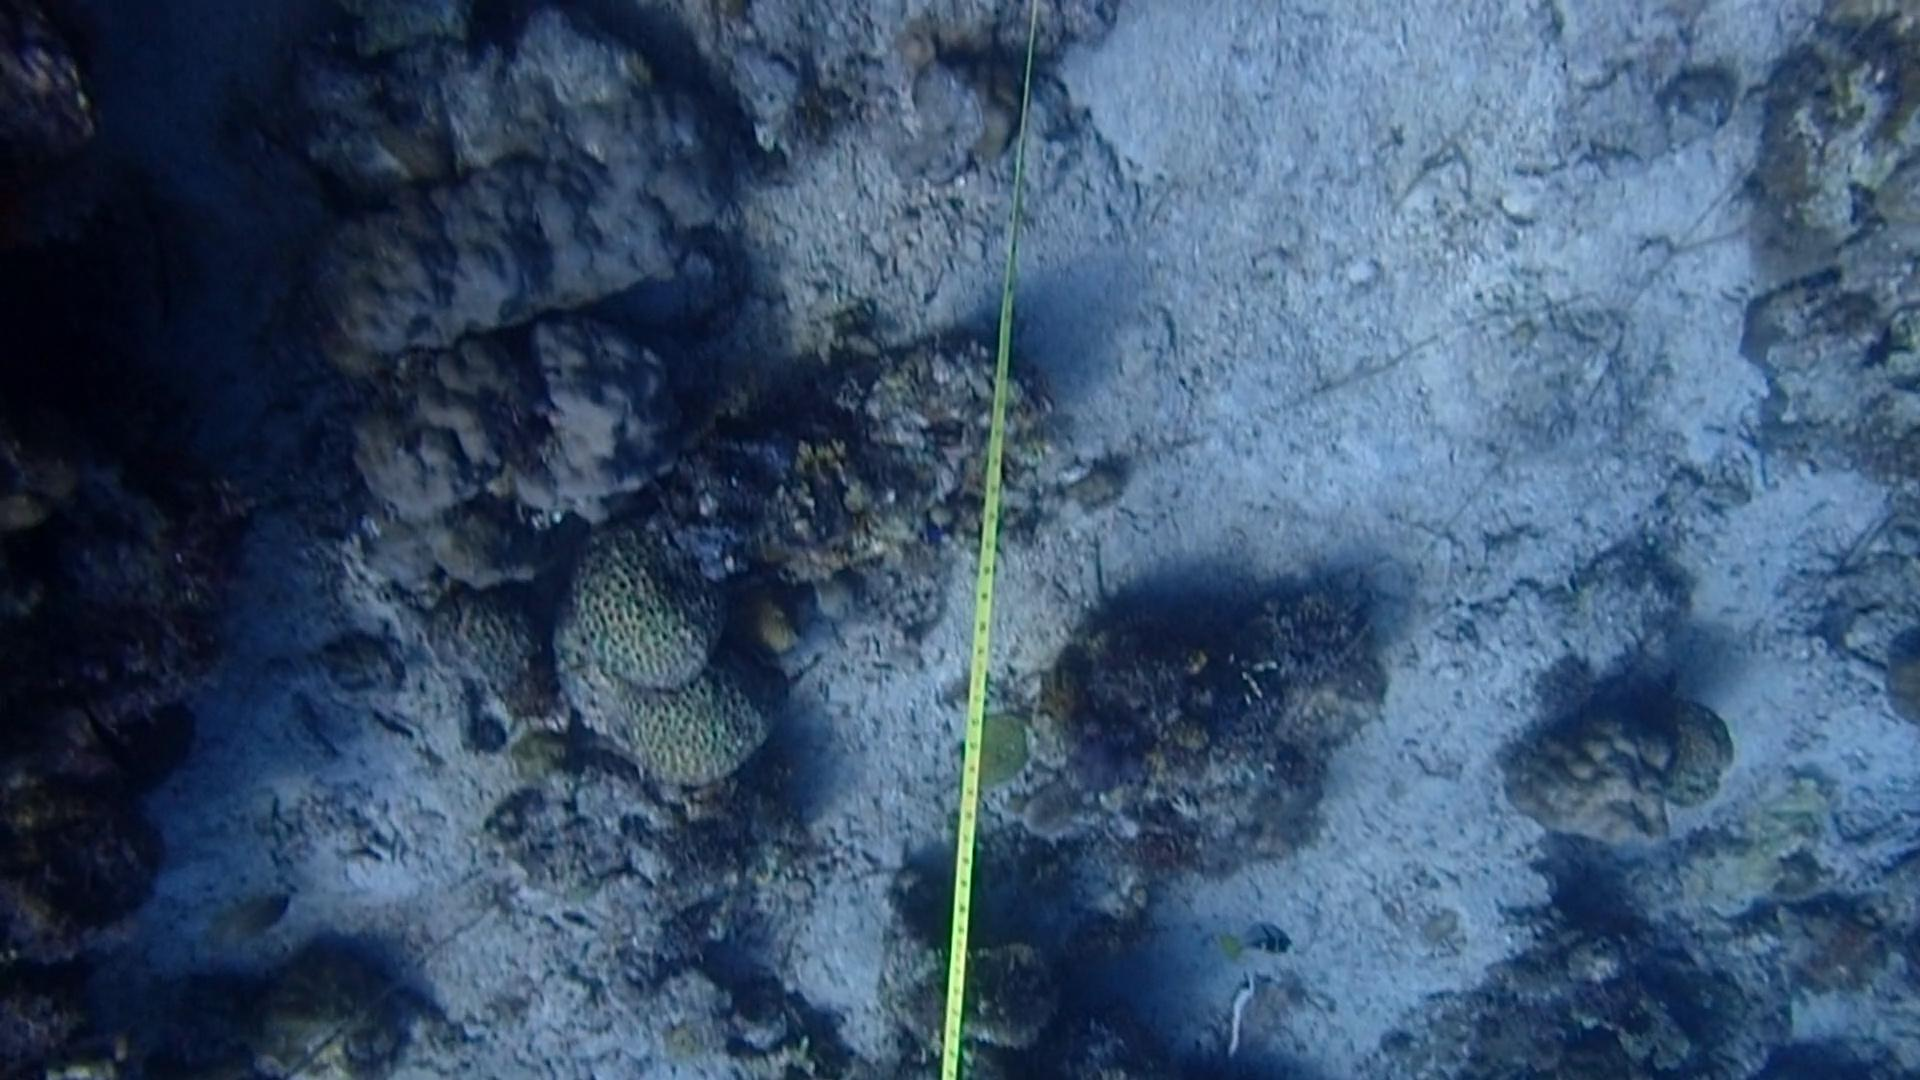Striped Fish: (1216, 910, 1295, 963)
